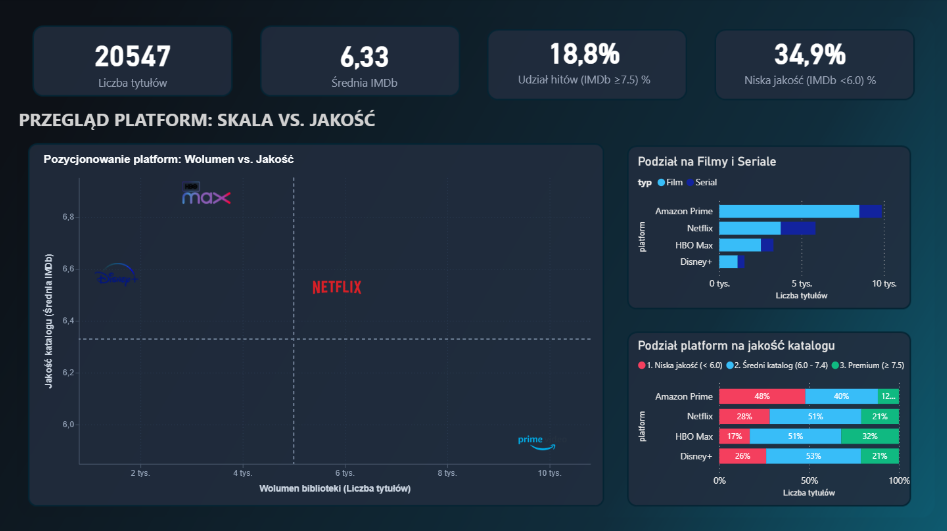

The dashboard page shown, as its layout file describes it:
{"tool":"powerbi","page":{"name":"Przegląd Platform: Skala VS. Jakośc","canvas":[1280,720],"ordinal":0},"visuals":[{"type":"card","fields":{"Values":["_Measures.Total Titles"]},"box":[31.8,33.6,296.4,100.9],"z":0},{"type":"card","fields":{"Values":["_Measures.Avg IMDb Score"]},"box":[344.6,34,296.2,101.1],"z":1000},{"type":"card","fields":{"Values":["_Measures.Premium Tier %"]},"box":[641.1,29.3,296.2,101.1],"z":2000},{"type":"card","fields":{"Values":["_Measures.Dead Content %"]},"box":[946.1,30.1,296.2,101.1],"z":3000},{"type":"deneb7E15AEF80B9E4D4F8E12924291ECE89A","fields":{"dataset":["vod_titles_cleaned.platform","_Measures.Liczba tytułów","_Measures.Średnia IMDb","platform_logos.logo_url"]},"box":[49.7,199.5,759,477],"z":4000},{"type":"barChart","title":"Podział na Filmy i Seriale","fields":{"Category":["vod_titles_cleaned.platform"],"Y":["_Measures.Liczba tytułów"],"Series":["vod_titles_cleaned.type"]},"box":[856.6,209.3,359.1,202.2],"z":5000},{"type":"hundredPercentStackedBarChart","title":"Podział platform na jakość katalogu ","fields":{"Y":["_Measures.Liczba tytułów"],"Series":["vod_titles_cleaned.Podział na jakość"],"Category":["vod_titles_cleaned.platform"]},"box":[856.4,456.4,377.3,220],"z":6000},{"type":"textbox","box":[20.9,140.9,674.5,74.5],"z":9000}]}

Visuals, with their boxes in screenshot pixels (x1, y1, x2, y2), scaled from the page's 1280x720 canvas onto the 947x531 screenshot:
card - _Measures.Total Titles: Rect(24, 25, 243, 99)
card - _Measures.Avg IMDb Score: Rect(255, 25, 474, 100)
card - _Measures.Premium Tier %: Rect(474, 22, 693, 96)
card - _Measures.Dead Content %: Rect(700, 22, 919, 97)
deneb7E15AEF80B9E4D4F8E12924291ECE89A - vod_titles_cleaned.platform x _Measures.Liczba tytułów: Rect(37, 147, 598, 499)
"Podział na Filmy i Seriale" barChart: Rect(634, 154, 899, 303)
"Podział platform na jakość katalogu " hundredPercentStackedBarChart: Rect(634, 337, 913, 499)
textbox: Rect(15, 104, 514, 159)
